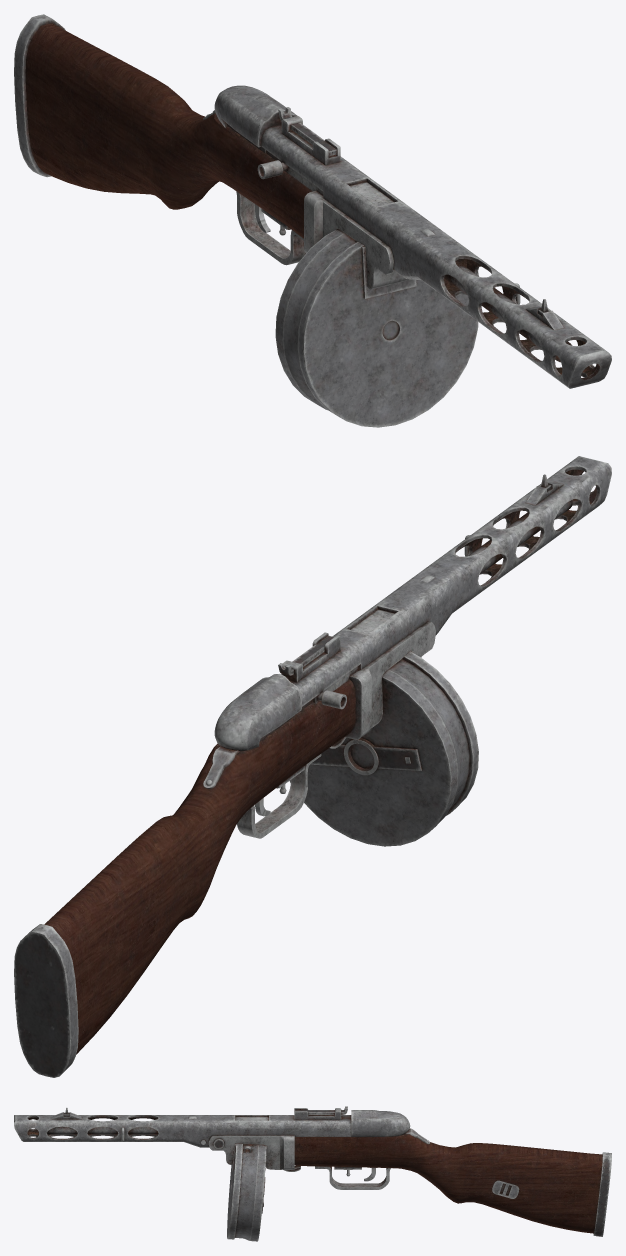
The picture shows the model from 3 angles, top to bottom: view 1: azimuth 30°, elevation 25°; view 2: azimuth 150°, elevation 25°; view 3: azimuth 270°, elevation 25°; orthographic projection. The views are drawn at different scales.
Parts seen in each view (by area): view 1: PPSH, stock, Drum, Main; view 2: PPSH, stock, Drum, Main; view 3: PPSH, stock, Drum, Main.
Boxes of the visible parts, x1=… form: PPSH: x1=15, y1=14, x2=611, y2=418; stock: x1=14, y1=14, x2=306, y2=235; Drum: x1=275, y1=229, x2=478, y2=427; Main: x1=237, y1=192, x2=410, y2=289; PPSH: x1=14, y1=456, x2=611, y2=1077; stock: x1=14, y1=686, x2=355, y2=1077; Drum: x1=304, y1=651, x2=478, y2=846; Main: x1=237, y1=621, x2=431, y2=834; PPSH: x1=14, y1=1106, x2=611, y2=1241; stock: x1=294, y1=1128, x2=611, y2=1236; Drum: x1=227, y1=1143, x2=266, y2=1239; Main: x1=208, y1=1135, x2=386, y2=1185.
Bounding box in the file's own units: 0.8346 × 1.09 × 4.59.
Materials: 1 (1 with a texture image).
